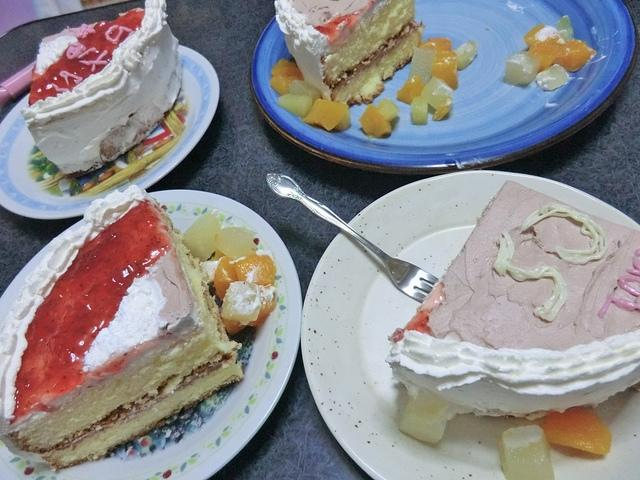pear: (498, 424, 556, 479), (399, 390, 451, 444), (182, 213, 221, 262), (221, 281, 262, 324), (502, 50, 542, 88), (215, 227, 256, 260), (420, 76, 454, 110), (409, 47, 436, 86), (278, 93, 312, 120), (536, 64, 569, 91), (288, 80, 320, 107), (453, 40, 478, 70), (378, 98, 400, 122), (411, 96, 428, 124), (556, 15, 574, 40), (335, 110, 350, 130)
